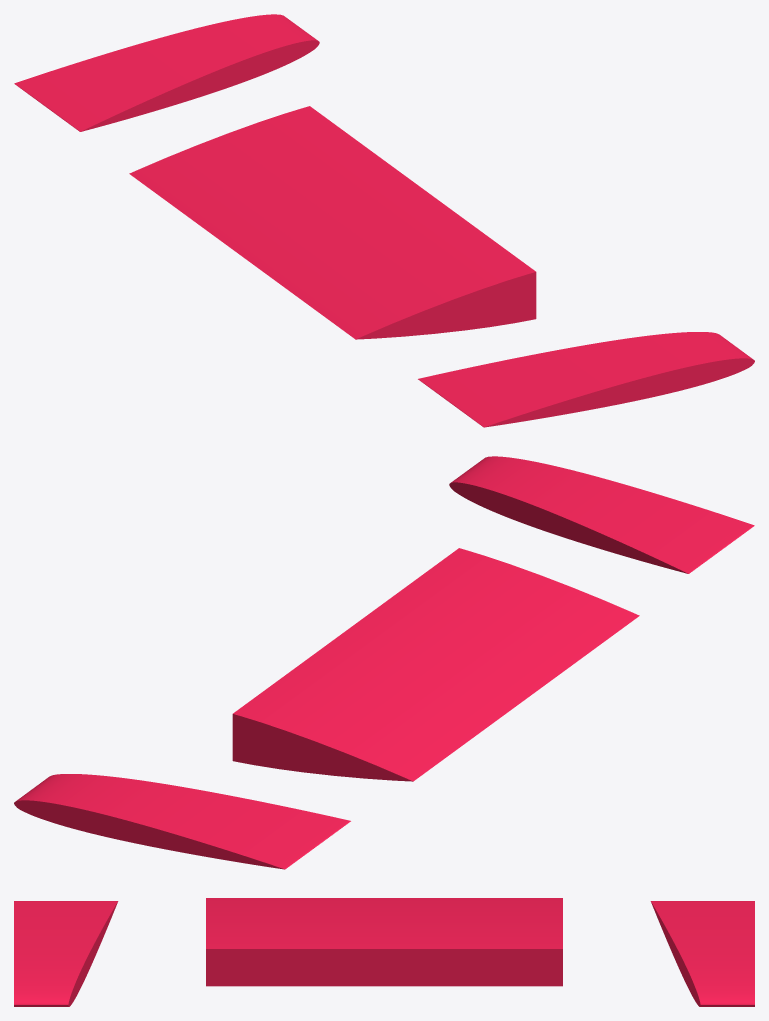
File: back_fin.dae
The picture shows the model from 3 angles, top to bottom: view 1: azimuth 30°, elevation 25°; view 2: azimuth 150°, elevation 25°; view 3: azimuth 270°, elevation 25°; orthographic projection. The views are drawn at different scales.
Parts seen in each view (by area): view 1: a68da0f0-7c4d-4e9e-bd47-7adc712bc676, a2c794fe-ad47-454a-8f93-3b4da68086e5, a77fb4be-f5ce-4fc7-a07d-e005db35be26; view 2: a68da0f0-7c4d-4e9e-bd47-7adc712bc676, a77fb4be-f5ce-4fc7-a07d-e005db35be26, a2c794fe-ad47-454a-8f93-3b4da68086e5; view 3: a68da0f0-7c4d-4e9e-bd47-7adc712bc676, a77fb4be-f5ce-4fc7-a07d-e005db35be26, a2c794fe-ad47-454a-8f93-3b4da68086e5.
Part boxes in pixels (bbox=[...]): a68da0f0-7c4d-4e9e-bd47-7adc712bc676: bbox=[129, 106, 536, 339]; a2c794fe-ad47-454a-8f93-3b4da68086e5: bbox=[418, 332, 754, 427]; a77fb4be-f5ce-4fc7-a07d-e005db35be26: bbox=[14, 14, 319, 131]; a68da0f0-7c4d-4e9e-bd47-7adc712bc676: bbox=[232, 548, 639, 781]; a77fb4be-f5ce-4fc7-a07d-e005db35be26: bbox=[14, 774, 350, 869]; a2c794fe-ad47-454a-8f93-3b4da68086e5: bbox=[449, 456, 754, 573]; a68da0f0-7c4d-4e9e-bd47-7adc712bc676: bbox=[206, 898, 562, 986]; a77fb4be-f5ce-4fc7-a07d-e005db35be26: bbox=[650, 901, 754, 1006]; a2c794fe-ad47-454a-8f93-3b4da68086e5: bbox=[14, 901, 118, 1006].
Bounding box in the file's own units: 0.3073 × 0.9003 × 0.05.
